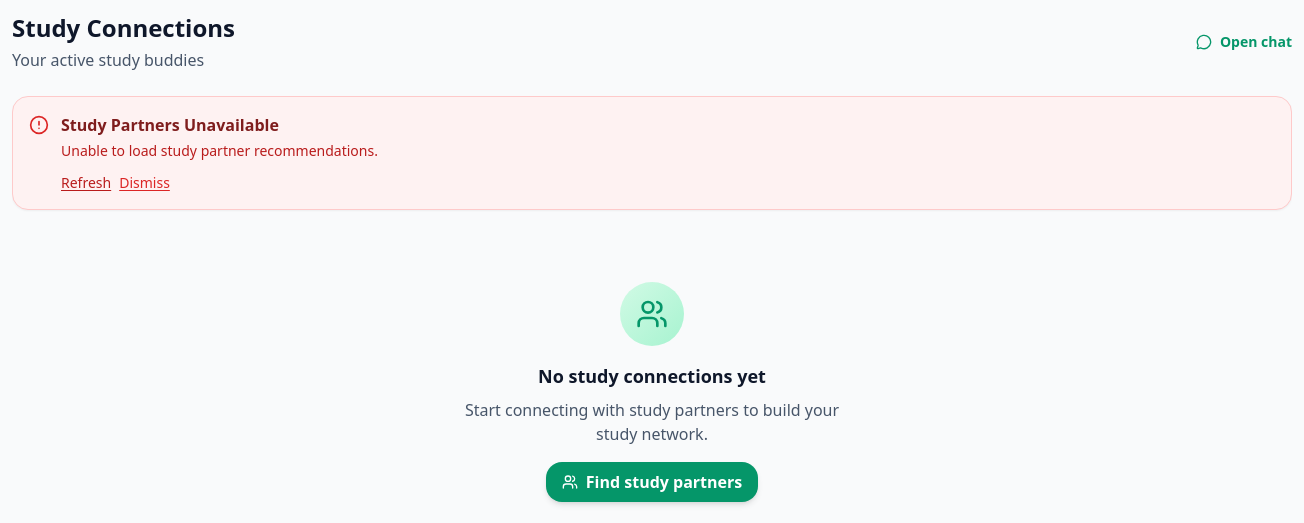
it: StudyConnections Component › dismisses error message when dismiss button is clicked
The width and height of the screenshot is (1304, 523).
Click dismiss button
Click the button "Dismiss" at coordinates (145, 183), box [119,173,170,193]
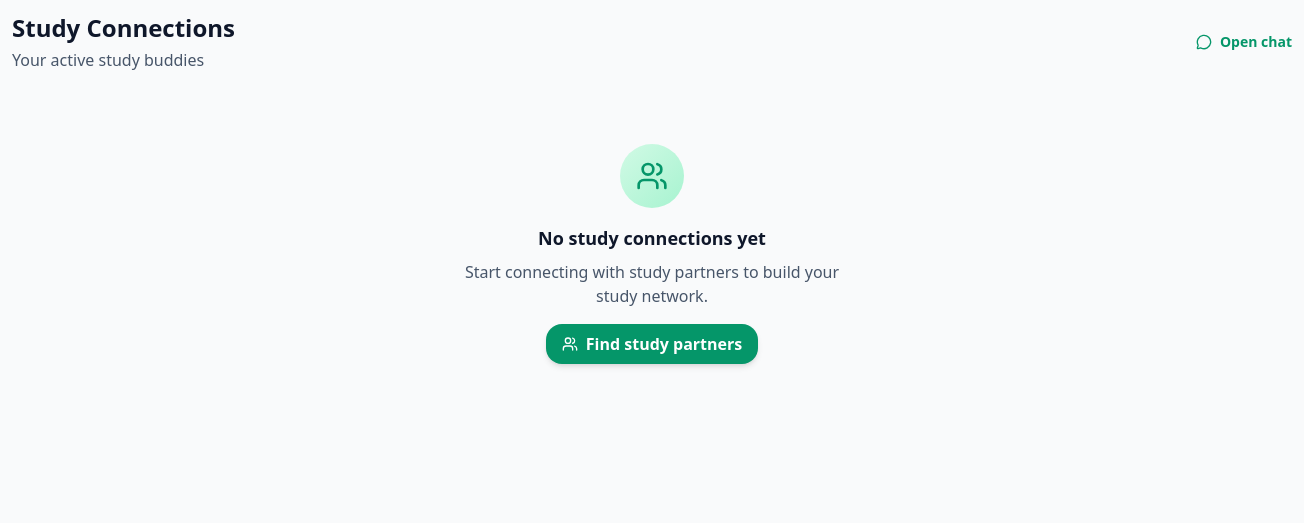
expect the button "Dismiss" is gone: met
